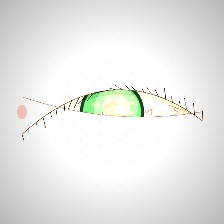corneal_ulcer: (93, 90, 139, 127)
